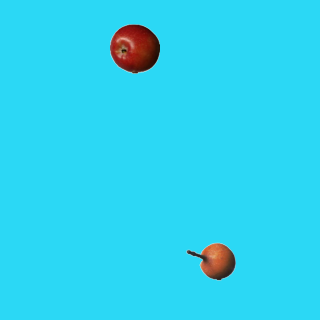Apple Braeburn: (109, 23, 159, 73)
Granadilla: (185, 236, 235, 286)
